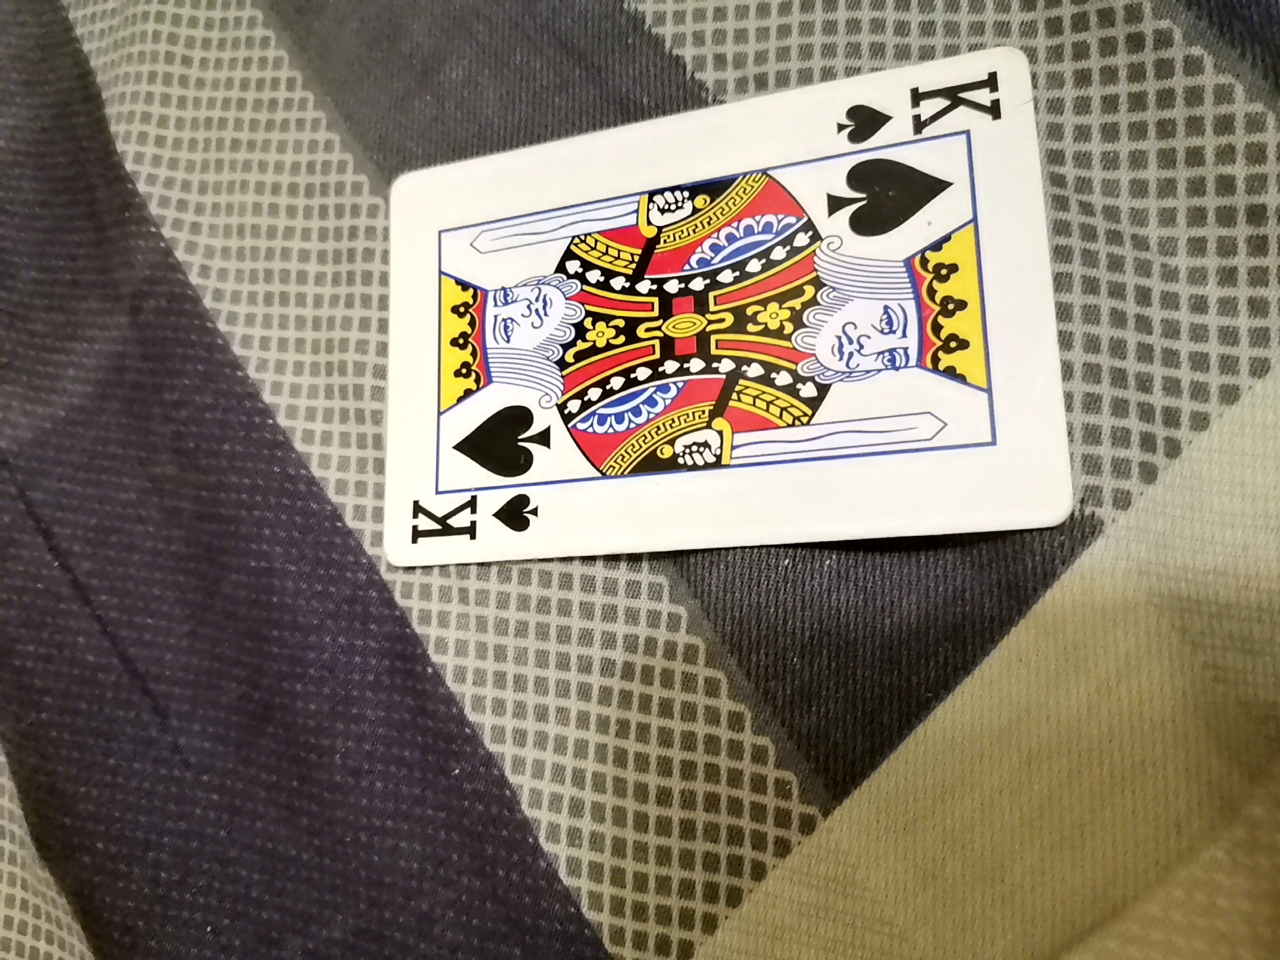ht k: (383, 45, 1096, 562)
